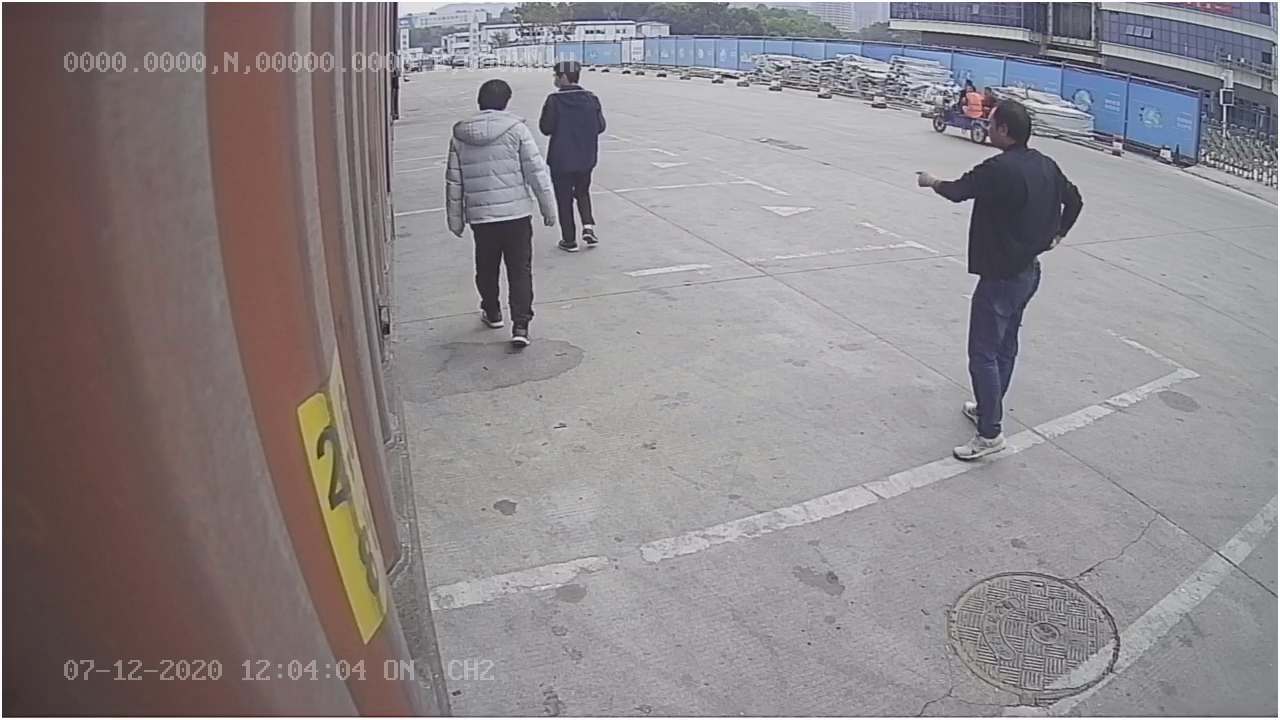person: (918, 101, 1089, 463), (441, 77, 558, 355)
